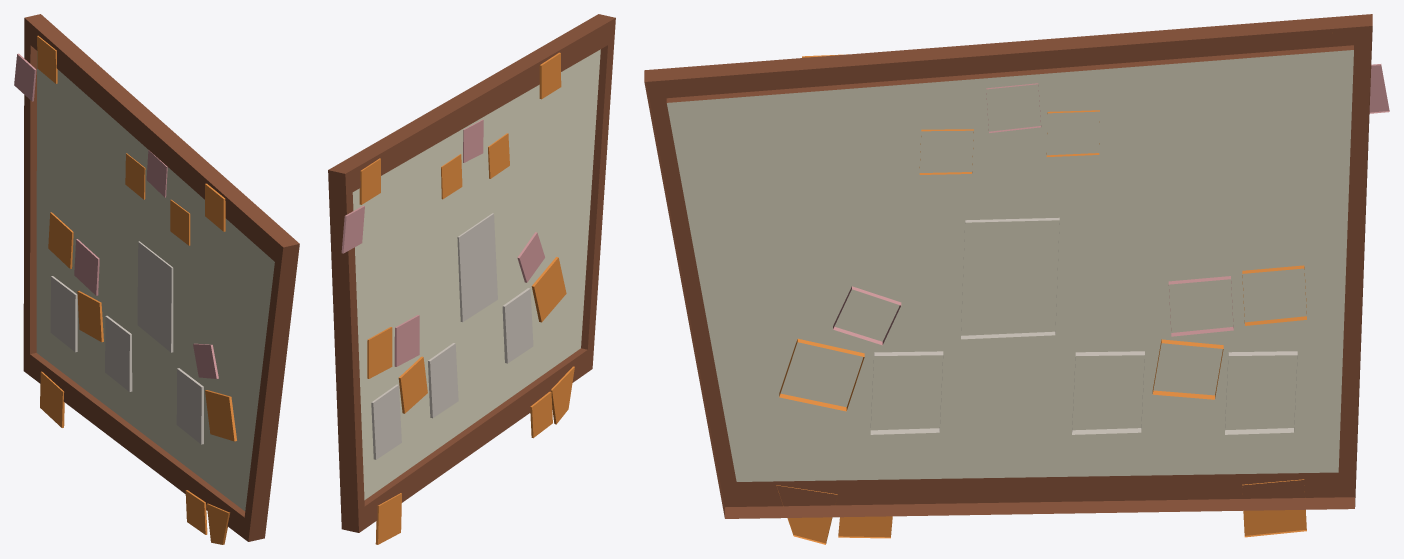
Rendered from static stuff fork room plate.fbx.
3 views of the same model, side by side, from view 1: azimuth 30°, elevation 25°; view 2: azimuth 150°, elevation 25°; view 3: azimuth 270°, elevation 25° (orthographic). The views are drawn at different scales.
Parts seen in each view (by area): view 1: static stuff fork room.004; view 2: static stuff fork room.004; view 3: static stuff fork room.004.
Part boxes in pixels (x1,y1,x2,y2): static stuff fork room.004: (14,14,299,544); static stuff fork room.004: (328,14,615,544); static stuff fork room.004: (644,14,1389,544).
Size of the model in its own units: 16.42 by 235 by 297.
